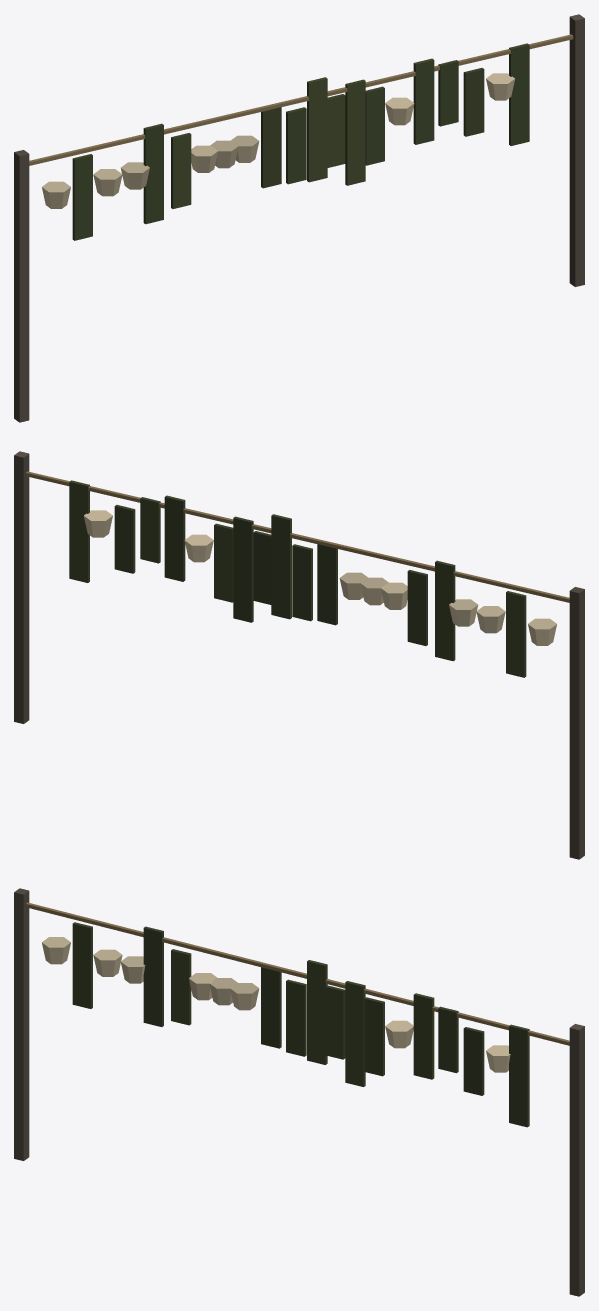
The model's file is walk_prop_kelp_rack.glb.
The picture shows the model from 3 angles, top to bottom: view 1: azimuth 30°, elevation 25°; view 2: azimuth 150°, elevation 25°; view 3: azimuth 330°, elevation 25°; orthographic projection.
Parts seen in each view (by area): view 1: walk_prop_kelp_rack; view 2: walk_prop_kelp_rack; view 3: walk_prop_kelp_rack.
Part boxes in pixels (x1,y1,x2,y2): walk_prop_kelp_rack: [14, 14, 584, 422]; walk_prop_kelp_rack: [14, 451, 584, 859]; walk_prop_kelp_rack: [14, 888, 584, 1296].
Size of what is drawn, in the model's own units: 4.88 by 2.21 by 0.22.
1 material, 1 textured.
